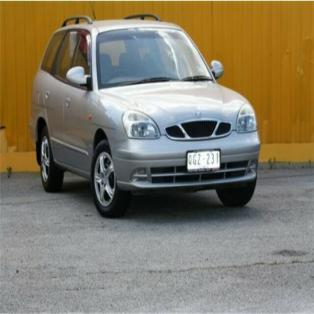Auto: (28, 12, 261, 219)
